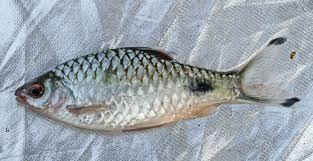Black Spotted Barb: (14, 28, 306, 134)
